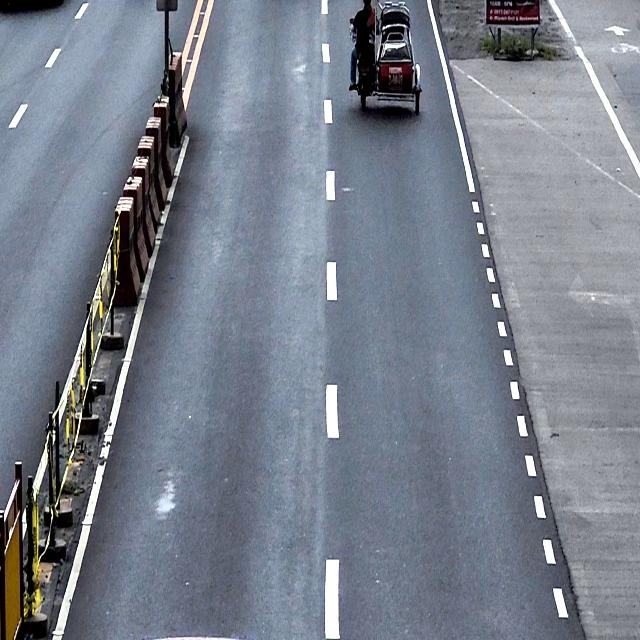License-Plate: (359, 63, 371, 72)
Tricycle: (348, 1, 423, 116)
